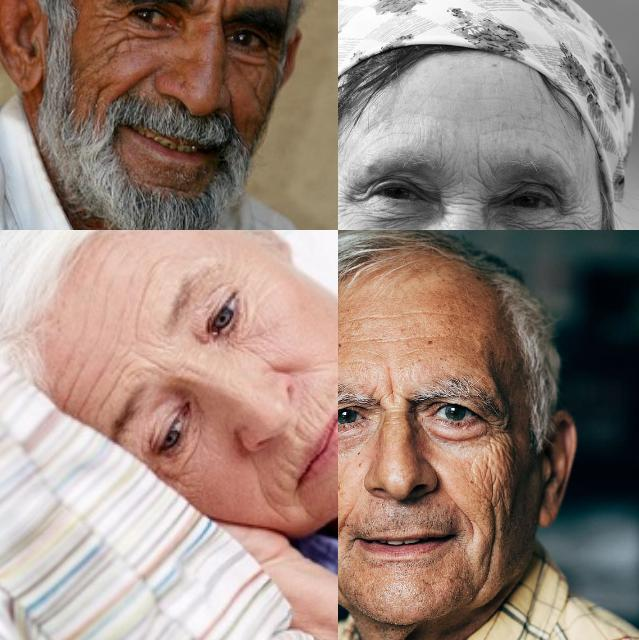chin: (150, 174, 192, 196)
crows_feet: (98, 0, 125, 44), (483, 414, 511, 452), (559, 198, 591, 230), (338, 187, 371, 215)
forehead: (102, 252, 156, 324), (64, 355, 120, 407), (360, 332, 420, 352), (425, 301, 461, 327), (363, 310, 411, 328)
frown_line: (447, 183, 482, 223), (136, 349, 174, 375), (470, 142, 492, 182), (380, 370, 402, 404), (203, 0, 231, 16)
gummy_smile: (120, 61, 148, 98), (450, 494, 478, 530)
masseter: (478, 500, 508, 570), (472, 454, 510, 490), (91, 78, 107, 112)
sad_smile: (256, 491, 292, 527)
smoker_lines: (264, 449, 298, 491), (298, 391, 328, 435)
